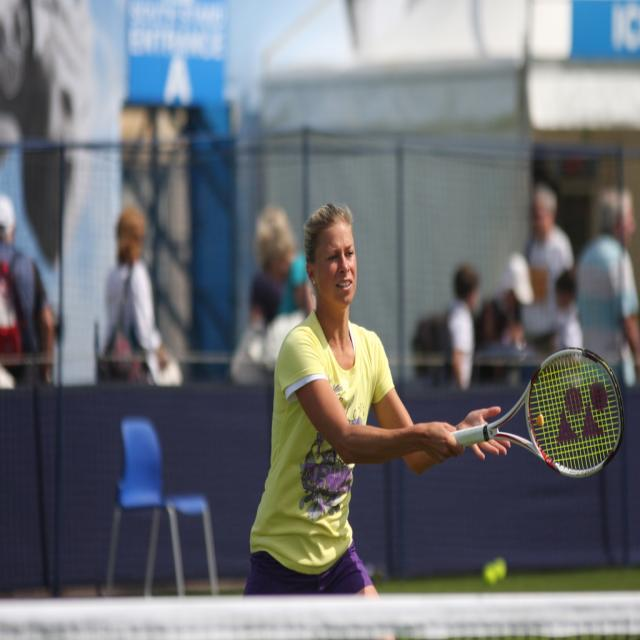Tennis ball: (494, 554, 506, 580)
